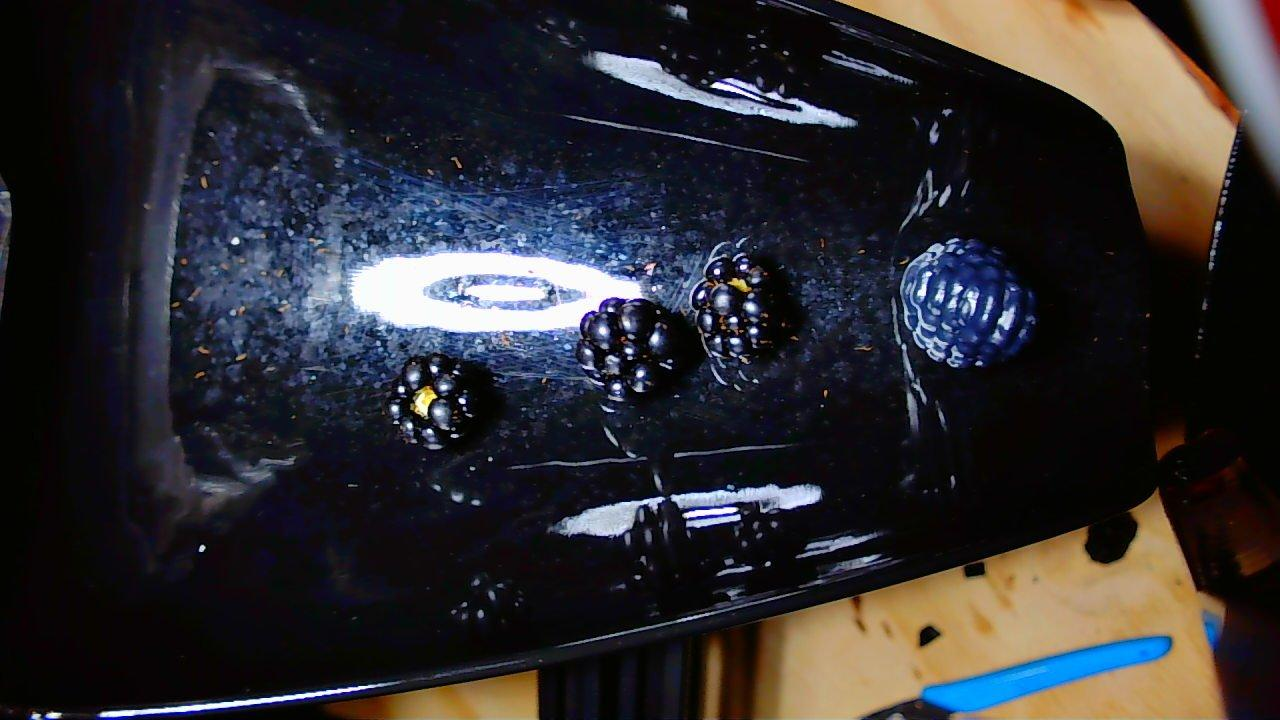berry: (899, 238, 1036, 368), (575, 298, 682, 400), (690, 253, 787, 363), (384, 355, 486, 449)
